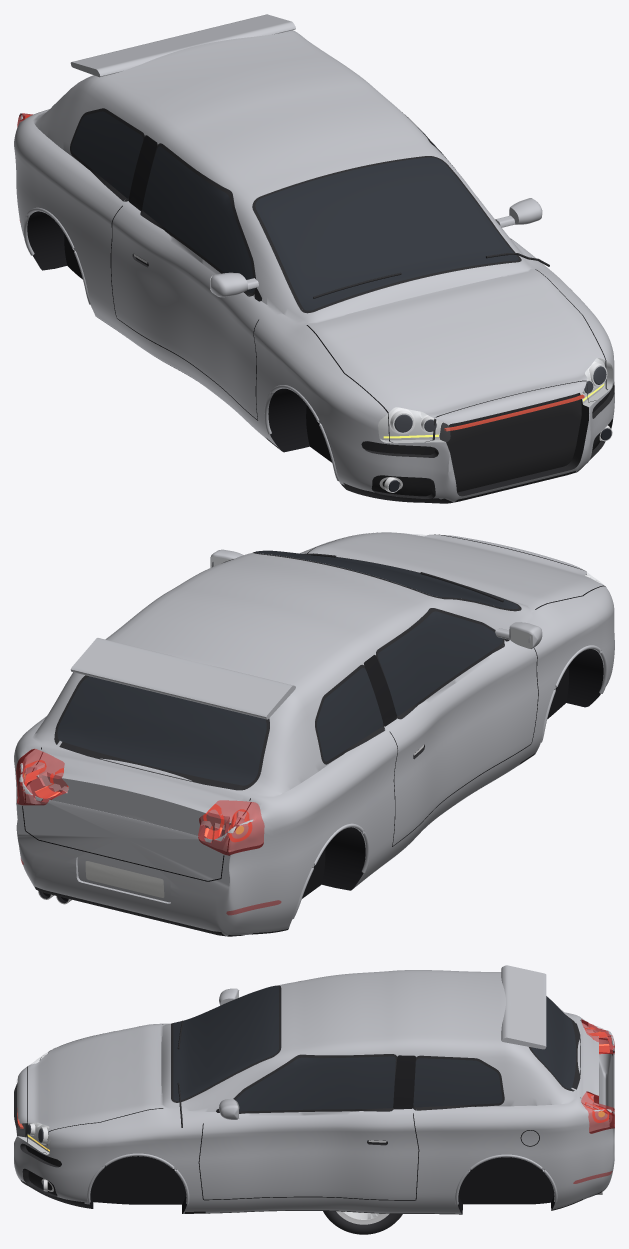
The model's file is birdie.glb.
The picture shows the model from 3 angles, top to bottom: view 1: azimuth 30°, elevation 25°; view 2: azimuth 150°, elevation 25°; view 3: azimuth 270°, elevation 25°; orthographic projection. The views are drawn at different scales.
Parts seen in each view (by area): view 1: Body; view 2: Body; view 3: Body, TyreF, RimF.
Boxes of the visible parts, bbox=[...] form: Body: bbox=[14, 14, 614, 503]; Body: bbox=[14, 532, 614, 936]; Body: bbox=[14, 965, 614, 1214]; TyreF: bbox=[323, 1211, 402, 1234]; RimF: bbox=[336, 1211, 389, 1224].
Bounding box in the file's own units: 2 × 1.78 × 4.21.
